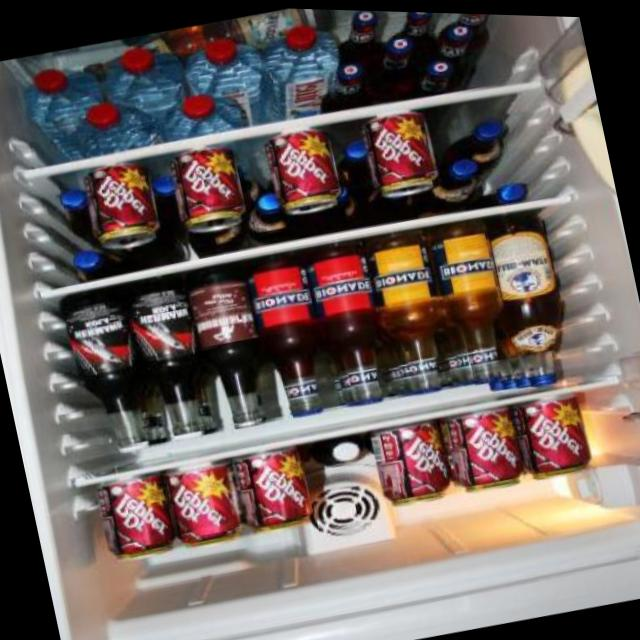Drinks: (92, 465, 180, 565), (438, 398, 526, 495), (78, 154, 163, 254), (165, 137, 249, 237), (262, 120, 346, 220), (358, 101, 442, 201), (510, 384, 596, 481), (162, 453, 248, 550), (369, 410, 455, 507), (232, 439, 316, 536)
